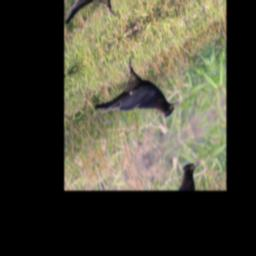Crow: (85, 35, 182, 157)
